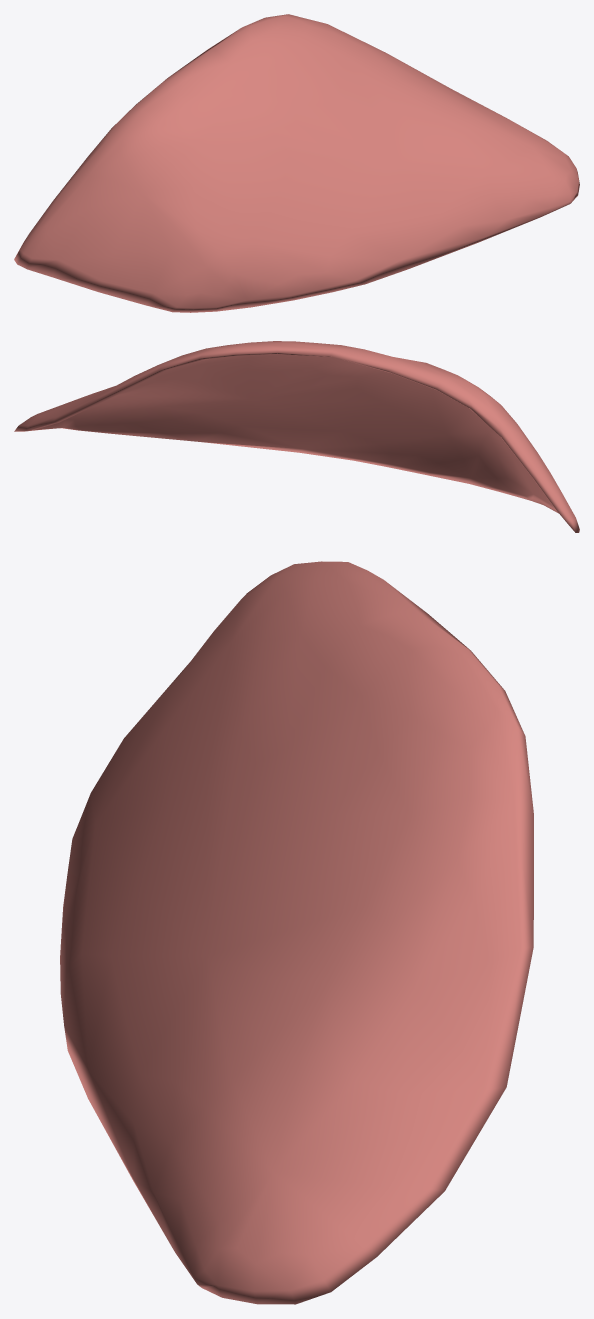
3 renders of one model, top to bottom at view 1: azimuth 30°, elevation 25°; view 2: azimuth 150°, elevation 25°; view 3: azimuth 270°, elevation 25°, orthographic. The views are drawn at different scales.
Parts seen in each view (by area): view 1: ZA_969168ef66e72bec; view 2: ZA_969168ef66e72bec; view 3: ZA_969168ef66e72bec.
Boxes of the visible parts, x1,y1,x2,y2 form: ZA_969168ef66e72bec: (14,14,579,312); ZA_969168ef66e72bec: (14,341,579,532); ZA_969168ef66e72bec: (60,561,533,1304).
Bounding box in the file's own units: 0.0374 × 0.0124 × 0.0138.
